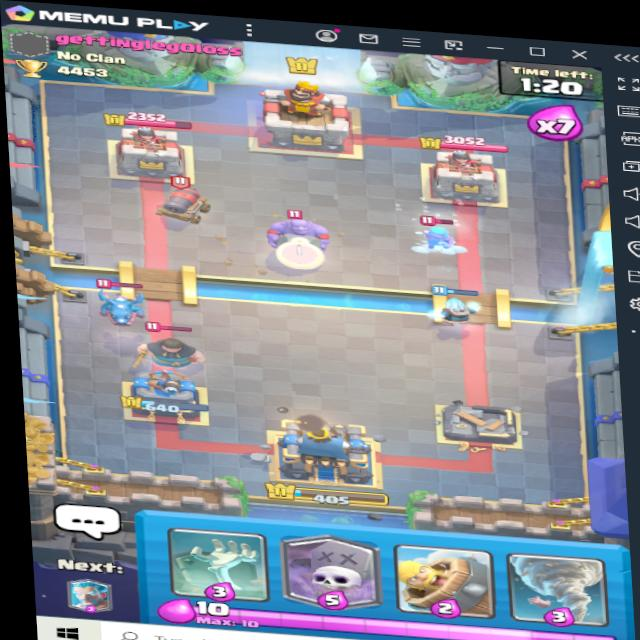bowler: (252, 200, 339, 265)
cannon-cart: (158, 169, 215, 222)
electro-dragon: (87, 276, 156, 332)
rascal-boy: (136, 328, 210, 369)
rascal-girl: (421, 217, 463, 253)
